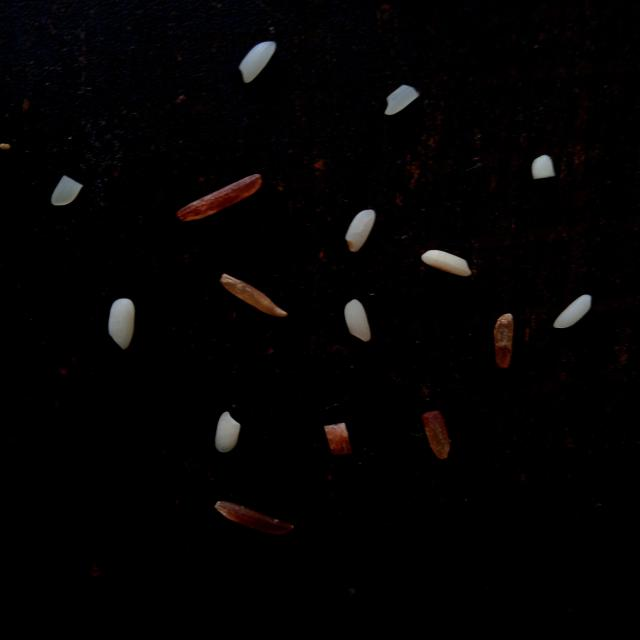Broken: (177, 174, 262, 222), (220, 274, 288, 318), (214, 500, 294, 534), (422, 410, 450, 459), (493, 313, 514, 368), (384, 84, 420, 116), (51, 176, 83, 206), (323, 422, 352, 454)
Full: (238, 42, 276, 84), (108, 298, 135, 350), (344, 210, 376, 252), (421, 250, 471, 276), (553, 295, 591, 328), (344, 299, 371, 342), (215, 412, 240, 452), (531, 155, 555, 179)
